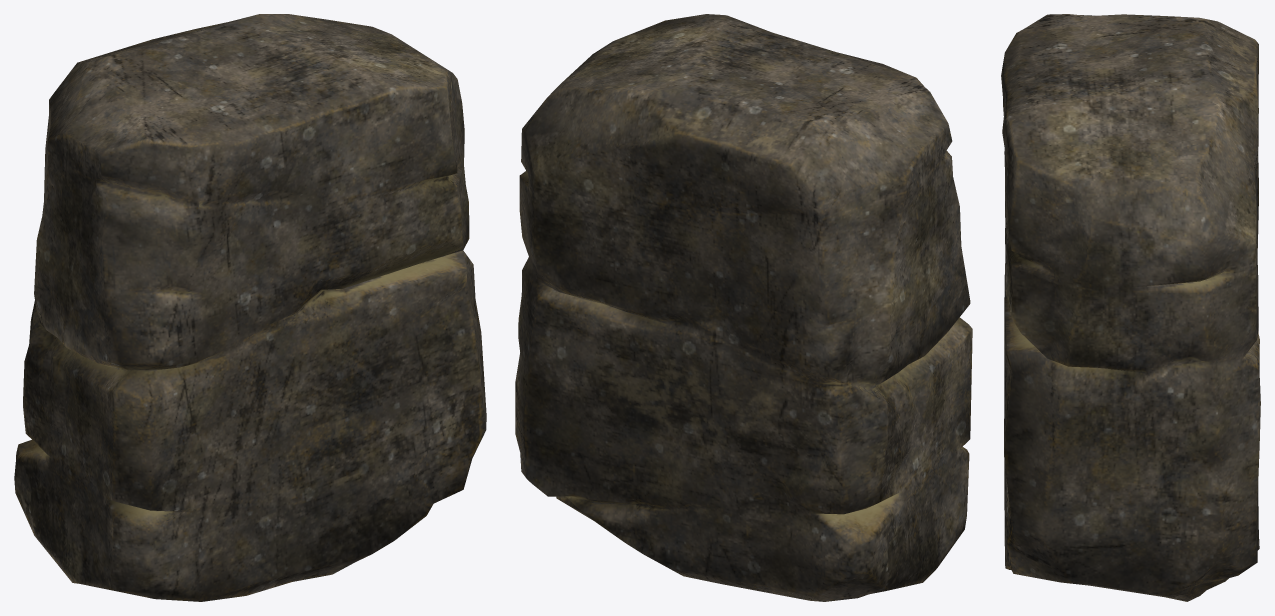
Rendered from Rock_7.fbx.
3 views of the same model, side by side, from view 1: azimuth 30°, elevation 25°; view 2: azimuth 150°, elevation 25°; view 3: azimuth 270°, elevation 25° (orthographic). The views are drawn at different scales.
Visible parts, largest first — view 1: Rock_7_Baked; view 2: Rock_7_Baked; view 3: Rock_7_Baked.
Boxes of the visible parts, <box> form: Rock_7_Baked: <box>14,14,486,601</box>; Rock_7_Baked: <box>515,14,972,601</box>; Rock_7_Baked: <box>1001,14,1260,601</box>.
Size of the model in its own units: 5.51 by 3.25 by 6.76.
Materials: 1 (1 with a texture image).
